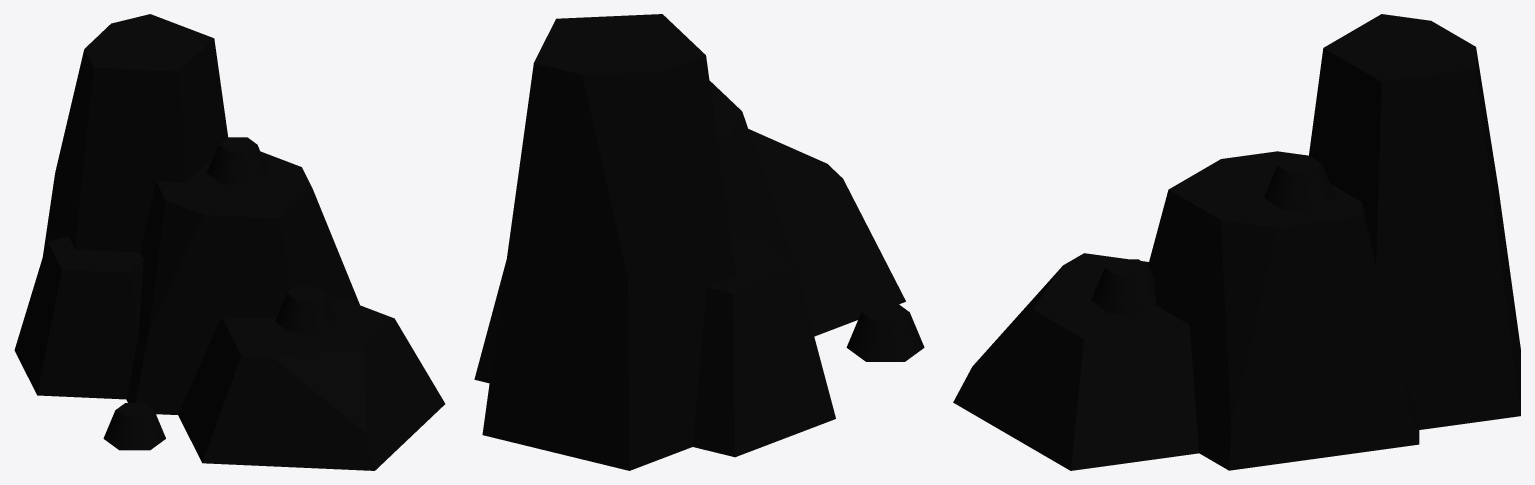
The model's file is rock-wide.glb.
3 renders of one model, left to right at view 1: azimuth 30°, elevation 25°; view 2: azimuth 150°, elevation 25°; view 3: azimuth 270°, elevation 25°, orthographic. The views are drawn at different scales.
Visible parts, largest first — view 1: rock-wide; view 2: rock-wide; view 3: rock-wide.
Part boxes in pixels (x1=…): rock-wide: x1=14, y1=14, x2=445, y2=470; rock-wide: x1=474, y1=14, x2=924, y2=470; rock-wide: x1=953, y1=14, x2=1520, y2=470.
Bounding box in the file's own units: 1.09 × 1.02 × 1.57.
Materials: 1 (1 with a texture image).
